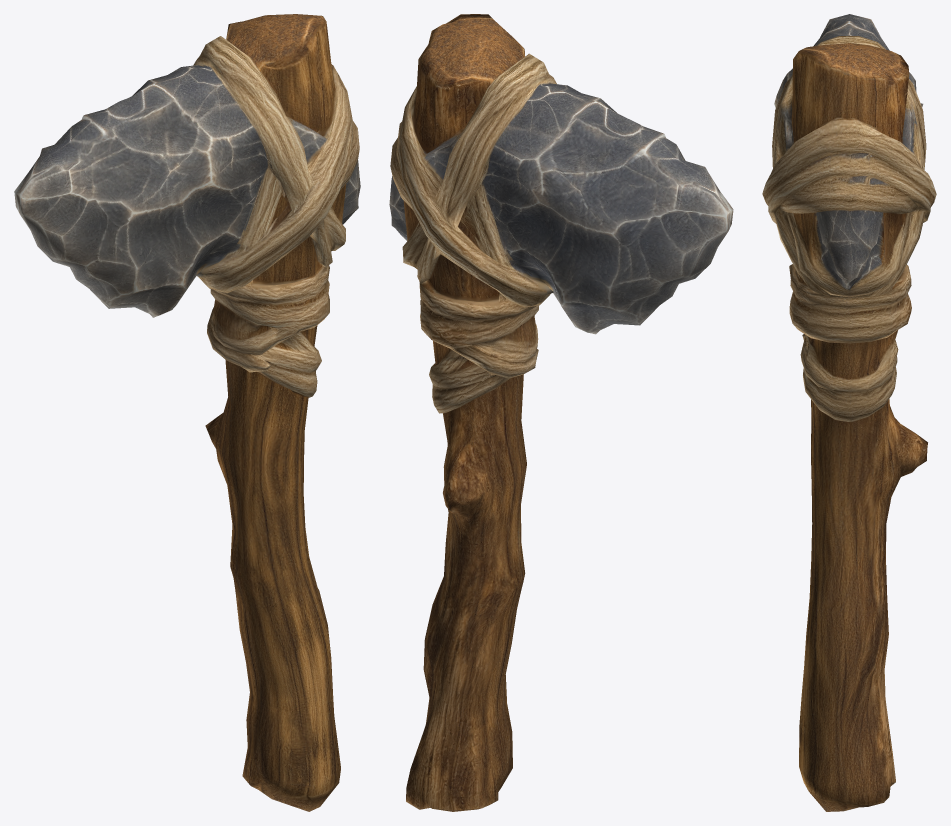
File: steinaxt_2_original.glb
The picture shows the model from 3 angles, left to right: view 1: azimuth 30°, elevation 25°; view 2: azimuth 150°, elevation 25°; view 3: azimuth 270°, elevation 25°; orthographic projection. The views are drawn at different scales.
Bounding box in the file's own units: 0.4229 × 0.9531 × 0.1997.
Materials: 1 (1 with a texture image).
